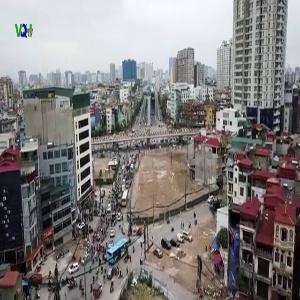drone: (165, 159, 261, 255)
